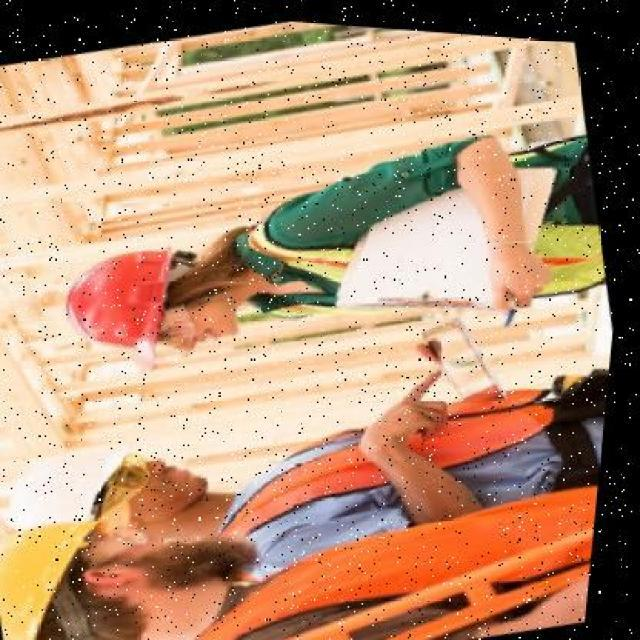helmet: (0, 414, 174, 548), (54, 223, 206, 375)
vest: (237, 85, 618, 340), (183, 443, 606, 639), (194, 340, 570, 552)
